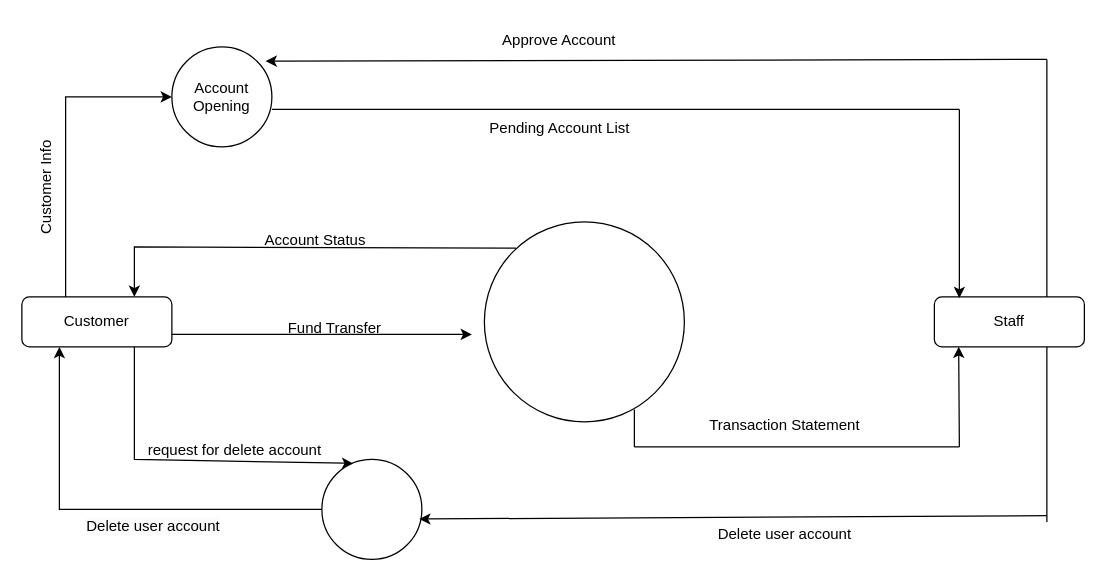
This 1106x581 diagram has some shape labels left out. The shapes that lost their labels are listed below. From the top down, each one's centre as x and y in pixels, then its label:
At (583,321): "Manage Transaction".
At (371,508): "delete customer account".
